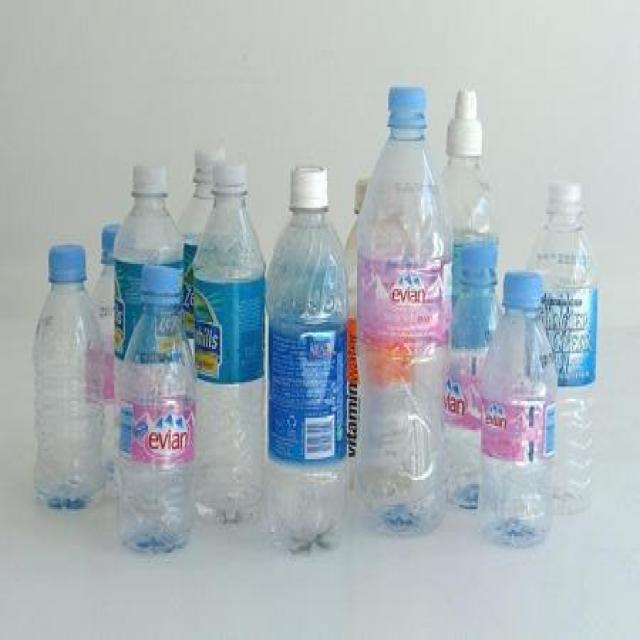bottle: (272, 153, 354, 564)
